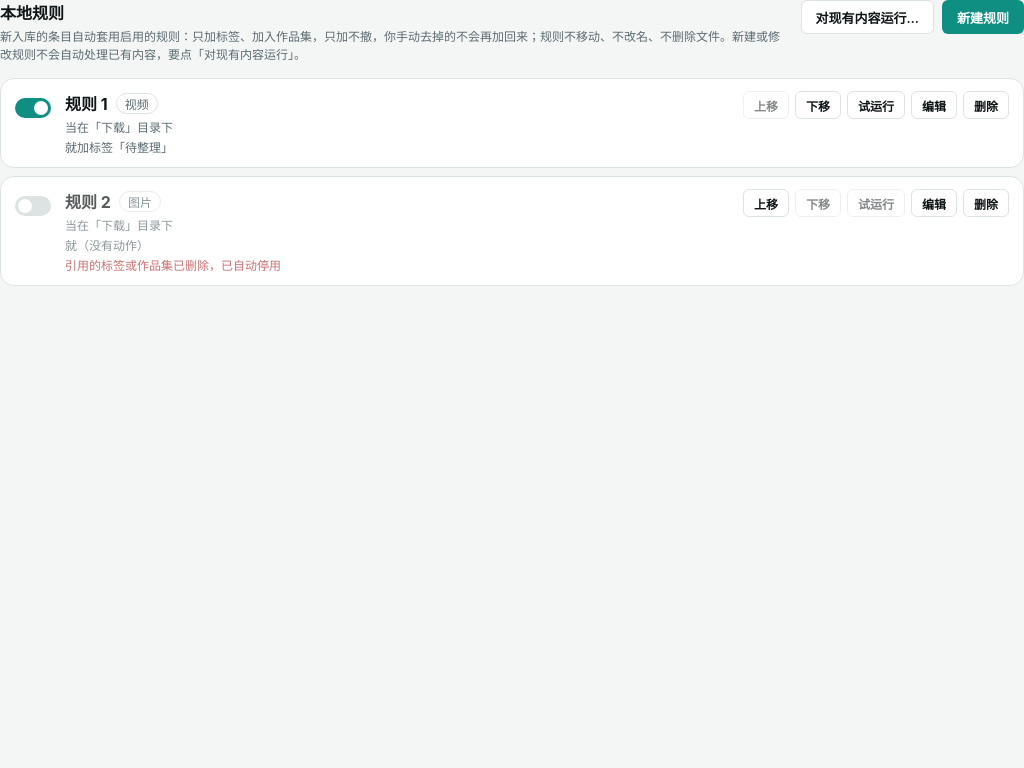
本地规则面板 › 全部预览为 0 时不能执行
What coordinates should you click on to do the following:
click the button with test id "rules-run-all"
I would click on:
 (867, 17)
Its box is [800,0,934,34].
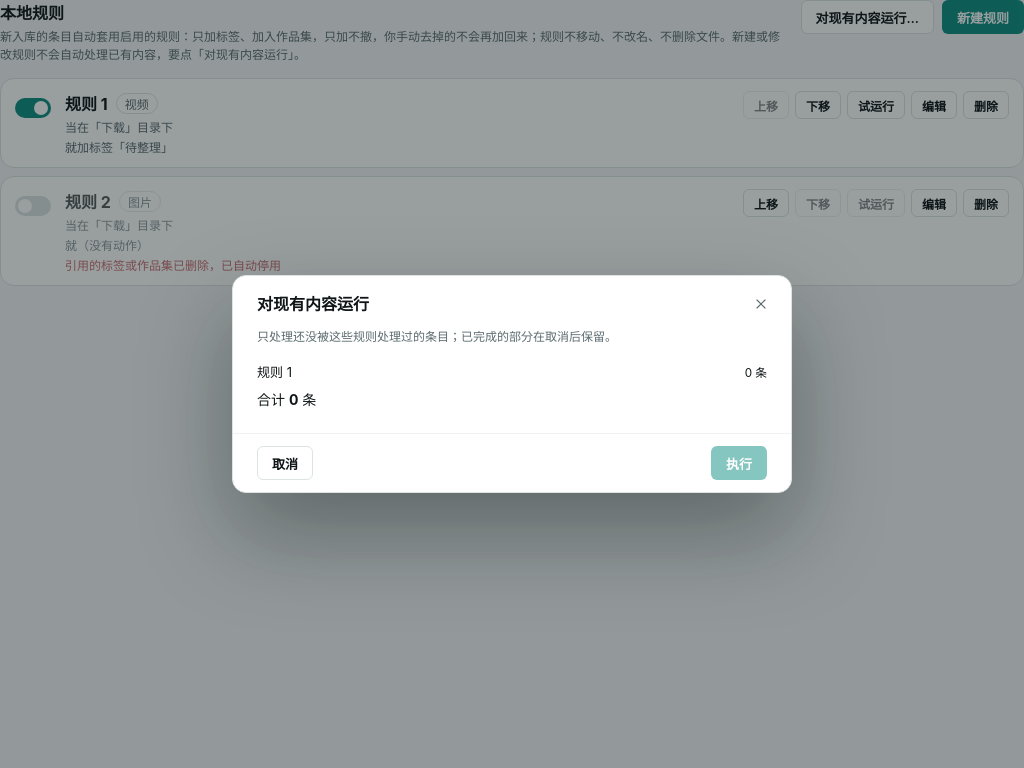
Expected: the button with test id "rules-run-all-confirm" is disabled, [711,446,767,480]
